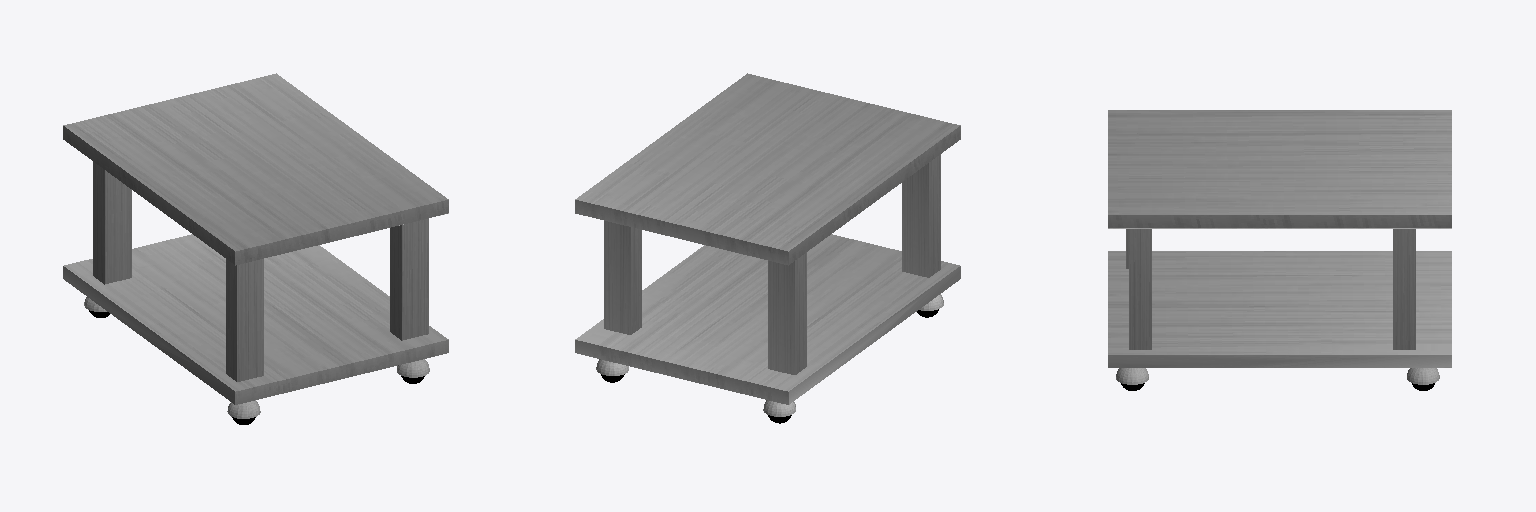
3 views of the same model, side by side, from view 1: azimuth 30°, elevation 25°; view 2: azimuth 150°, elevation 25°; view 3: azimuth 270°, elevation 25° (orthographic).
Visible parts, largest first — view 1: polySurface486 polySurface650, polySurface486 polySurface696, polySurface486 polySurface698, polySurface486 polySurface654, polySurface486 polySurface610; view 2: polySurface486 polySurface650, polySurface486 polySurface696, polySurface486 polySurface610, polySurface486 polySurface654, polySurface700 polySurface486; view 3: polySurface486 polySurface650, polySurface486 polySurface696, polySurface700 polySurface486, polySurface486 polySurface698.
Part boxes in pixels (bbox=[...]): polySurface486 polySurface650: bbox=[63, 73, 448, 265]; polySurface486 polySurface696: bbox=[63, 234, 448, 404]; polySurface486 polySurface698: bbox=[390, 218, 428, 340]; polySurface486 polySurface654: bbox=[226, 259, 263, 381]; polySurface486 polySurface610: bbox=[93, 162, 131, 284]; polySurface486 polySurface650: bbox=[575, 73, 960, 265]; polySurface486 polySurface696: bbox=[575, 234, 960, 404]; polySurface486 polySurface610: bbox=[768, 252, 806, 374]; polySurface486 polySurface654: bbox=[902, 154, 940, 277]; polySurface700 polySurface486: bbox=[604, 221, 641, 334]; polySurface486 polySurface650: bbox=[1108, 110, 1451, 228]; polySurface486 polySurface696: bbox=[1108, 251, 1451, 367]; polySurface700 polySurface486: bbox=[1393, 229, 1415, 349]; polySurface486 polySurface698: bbox=[1129, 229, 1151, 349].
Size of the model in its own units: 0.1526 by 0.1278 by 0.2134.
Materials: 18 (1 with a texture image).